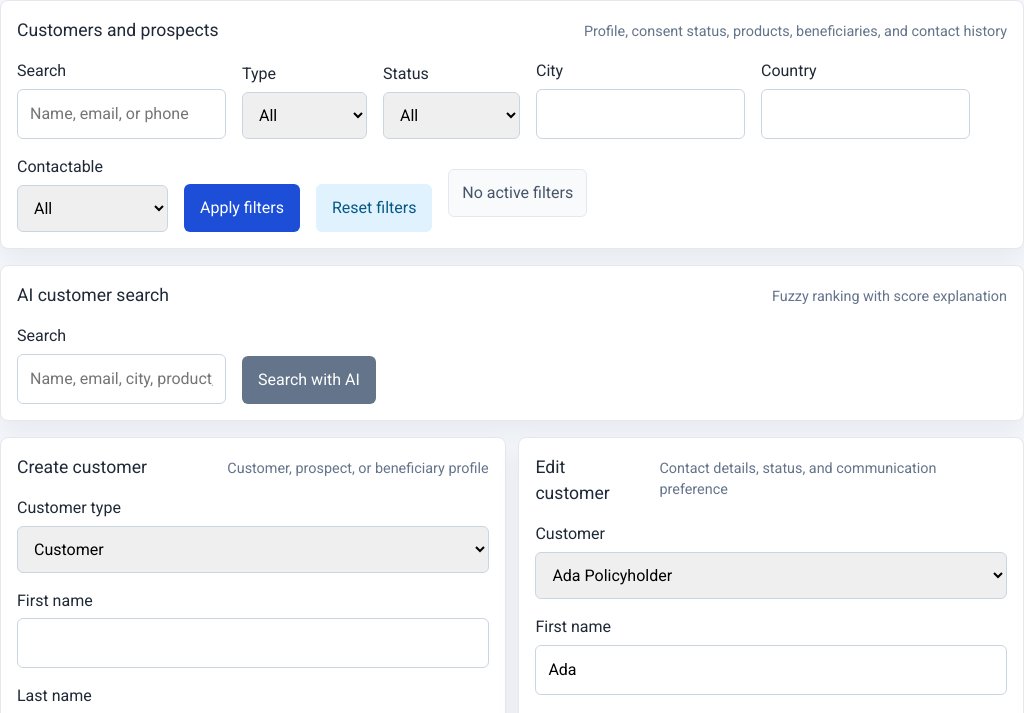
Test: CustomersPage › filters customers using KB search fields
Step 1. Type "Ada" into the field named "Search customers" → (122, 114), box 17,89 -> 226,139
Step 2. Select "Customer" in the dropdown named "Customer type filter" → (304, 116), box 242,92 -> 367,139
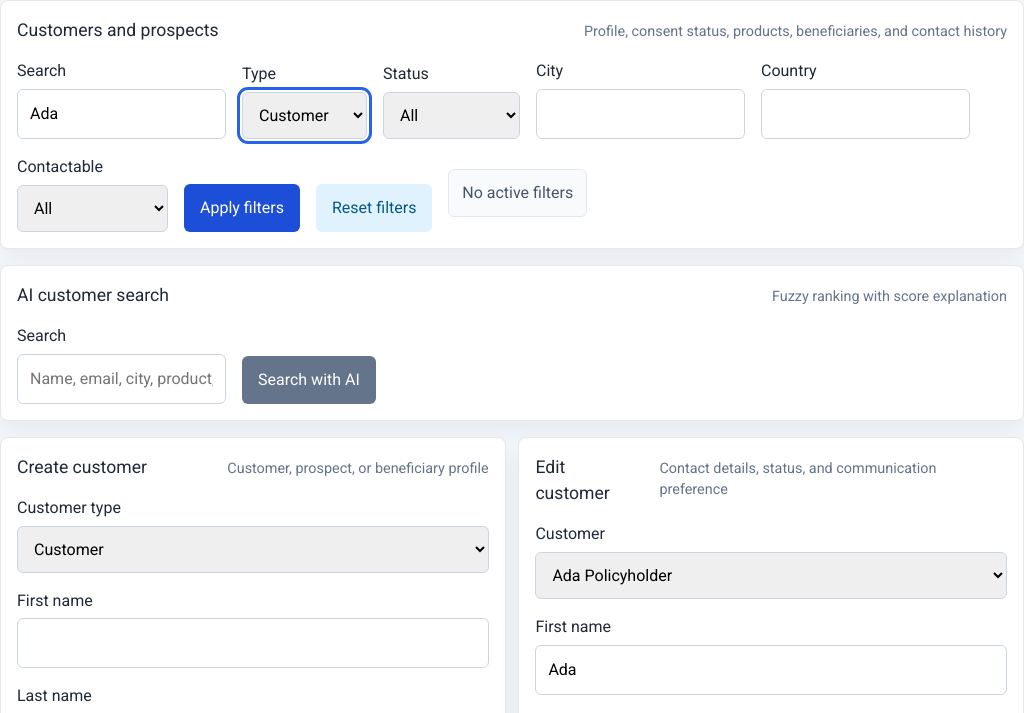
Step 3. Select "Active" in the dropdown named "Customer status filter" → (452, 116), box 383,92 -> 520,139
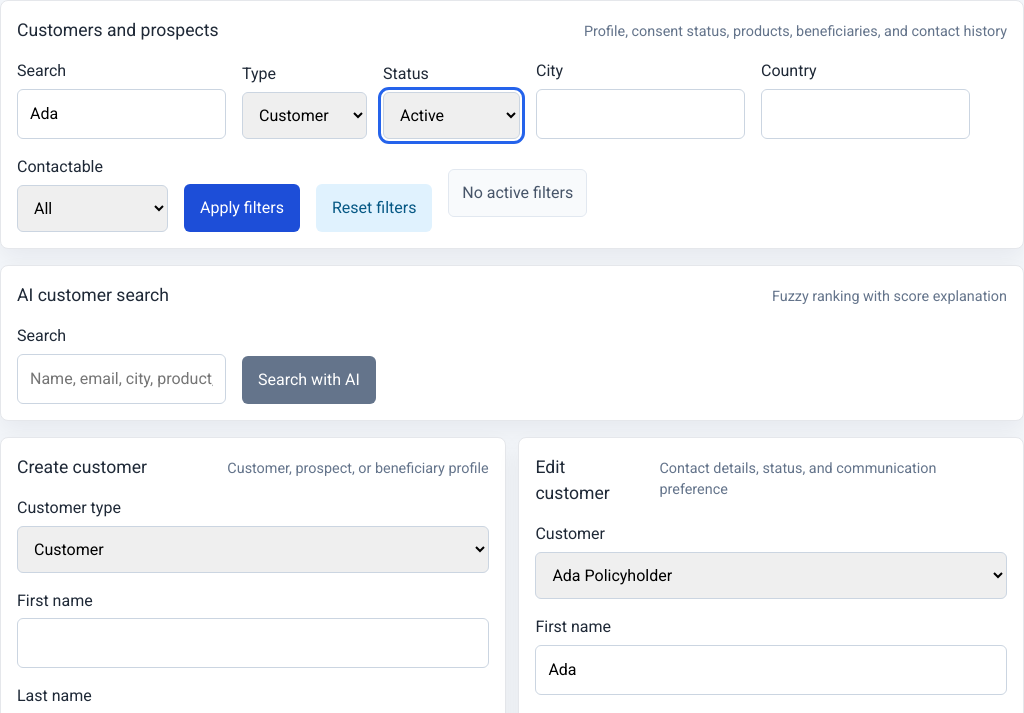
Step 4. Type "Berlin" into the field named "Customer city filter" → (640, 114), box 536,89 -> 745,139
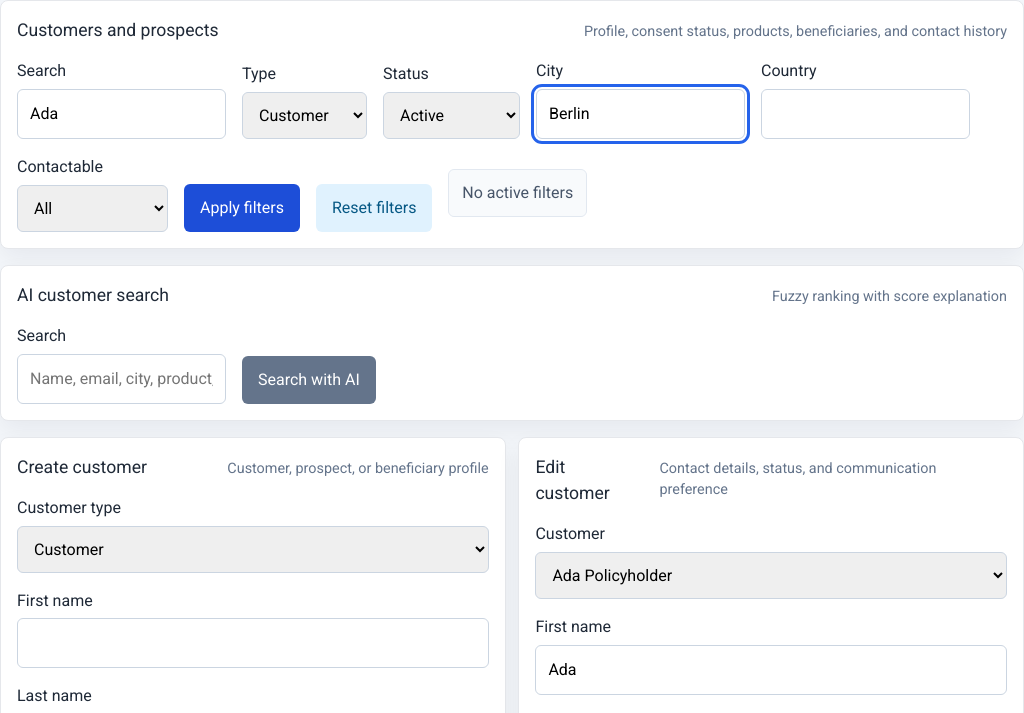
Step 5. Type "Germany" into the field named "Customer country filter" → (866, 114), box 761,89 -> 970,139
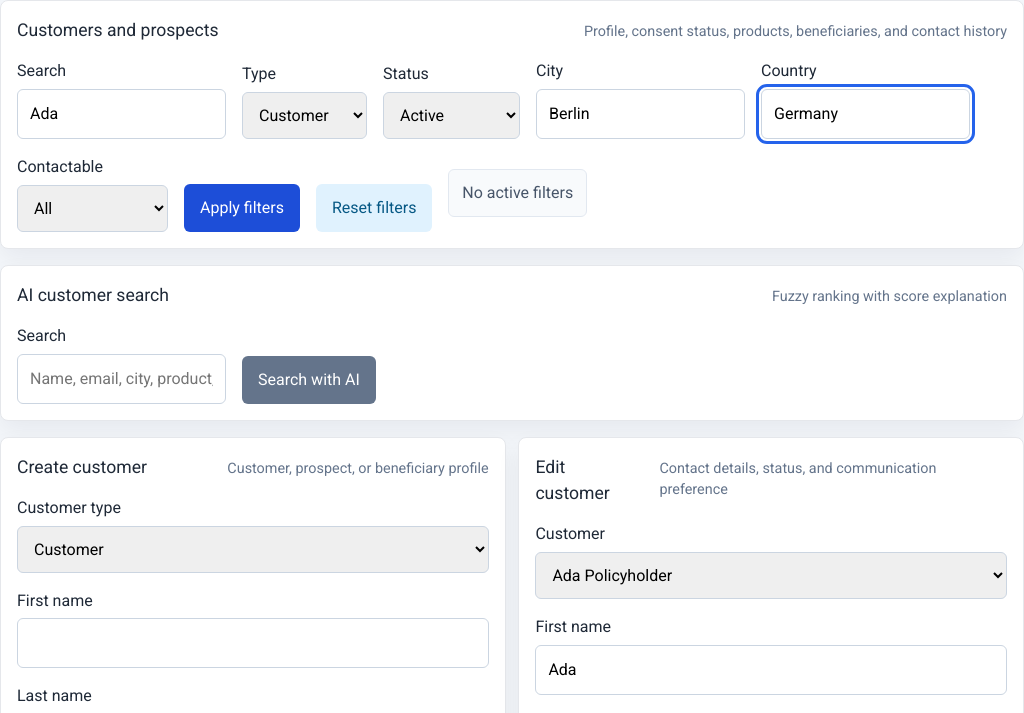
Step 6. Select "Contactable" in the dropdown named "Customer contactable filter" → (92, 208), box 17,185 -> 168,232
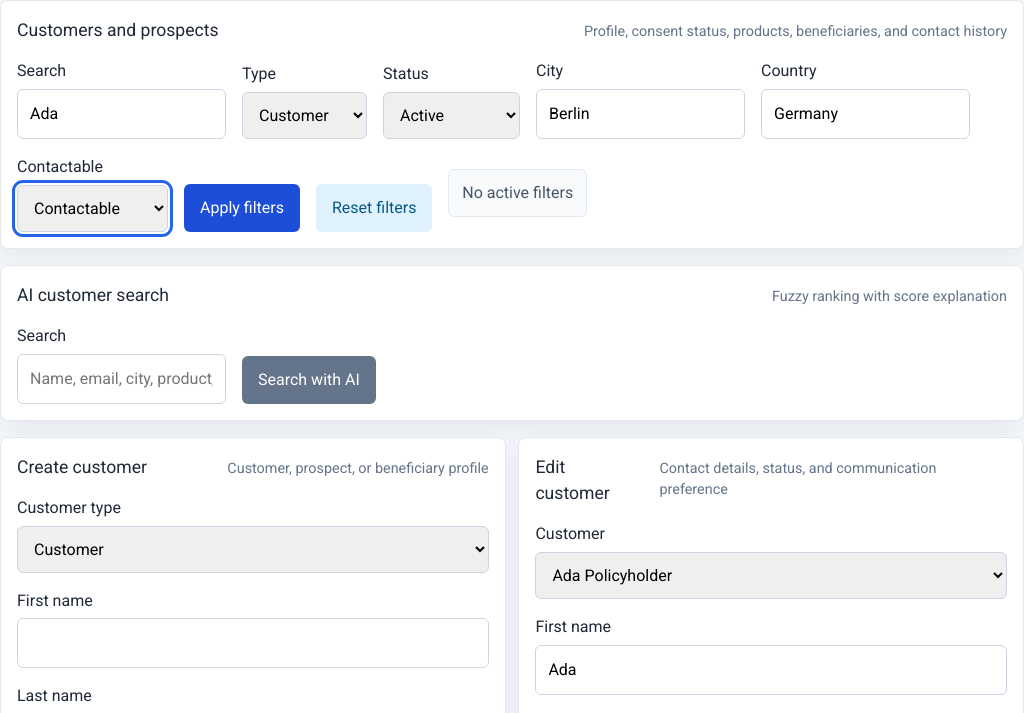
Expected: the text "No active filters" is shown, 448,169 -> 587,218
Step 7. Click the button "Apply filters" → click(242, 208), box 184,184 -> 300,232
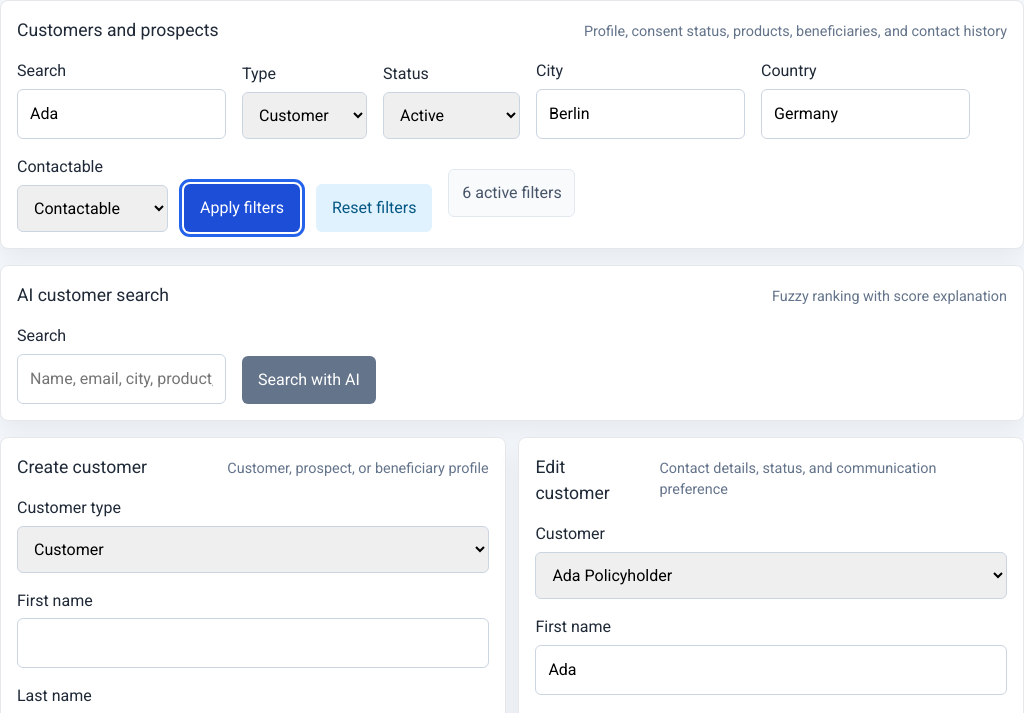
Expected: the text "6 active filters" is shown, 448,169 -> 576,218
